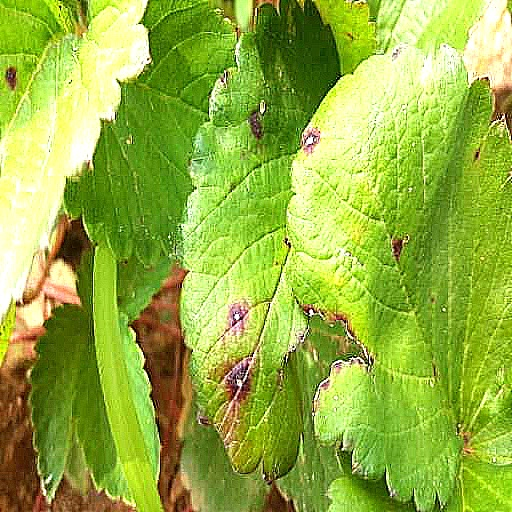Leaf Spot: (284, 42, 511, 511), (176, 0, 343, 483)
